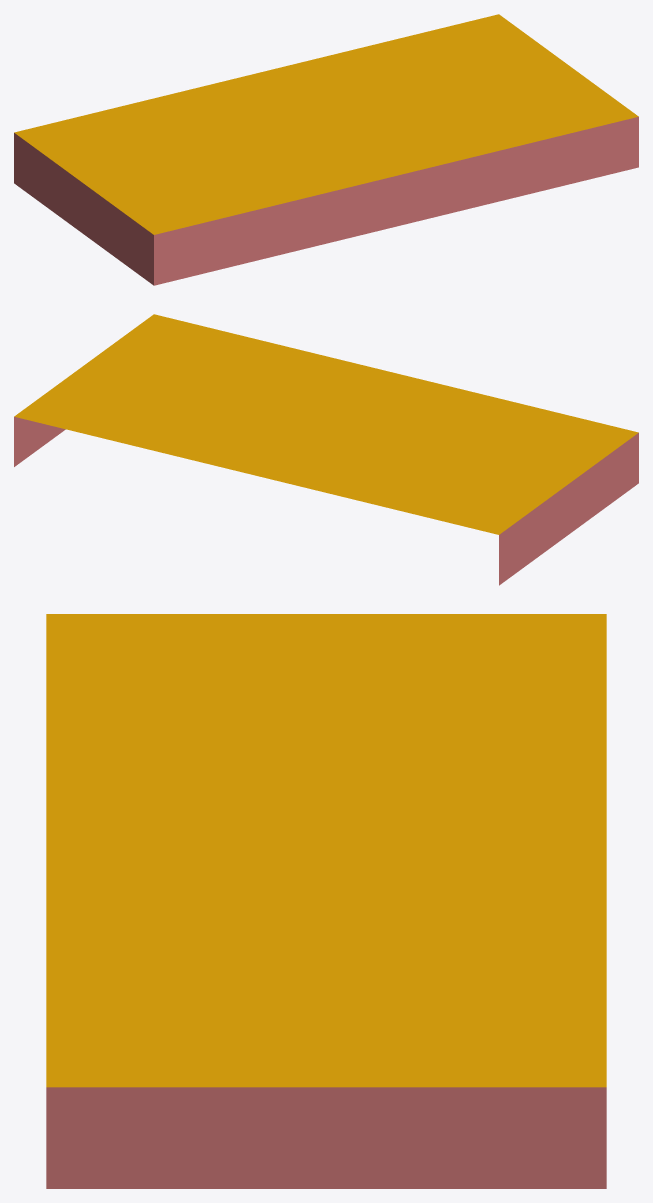
File: SM_Floor.fbx
3 renders of one model, top to bottom at view 1: azimuth 30°, elevation 25°; view 2: azimuth 150°, elevation 25°; view 3: azimuth 270°, elevation 25°, orthographic. The views are drawn at different scales.
Visible parts, largest first — view 1: Floor; view 2: Floor; view 3: Floor.
Boxes of the visible parts, left/top/right/bottom form: Floor: left=14, top=14, right=638, bottom=285; Floor: left=14, top=314, right=638, bottom=585; Floor: left=46, top=614, right=606, bottom=1188.
Bounding box in the file's own units: 2000 × 200 × 1000.
